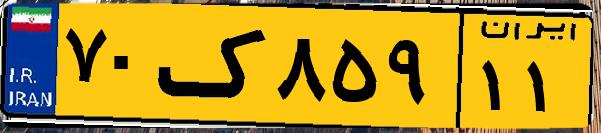0: (110, 28, 158, 98)
1: (475, 38, 525, 113), (525, 38, 570, 115)
5: (330, 28, 385, 110)
7: (57, 26, 110, 100)
8: (270, 28, 330, 110)
9: (385, 28, 445, 110)
ک: (158, 12, 270, 120)
